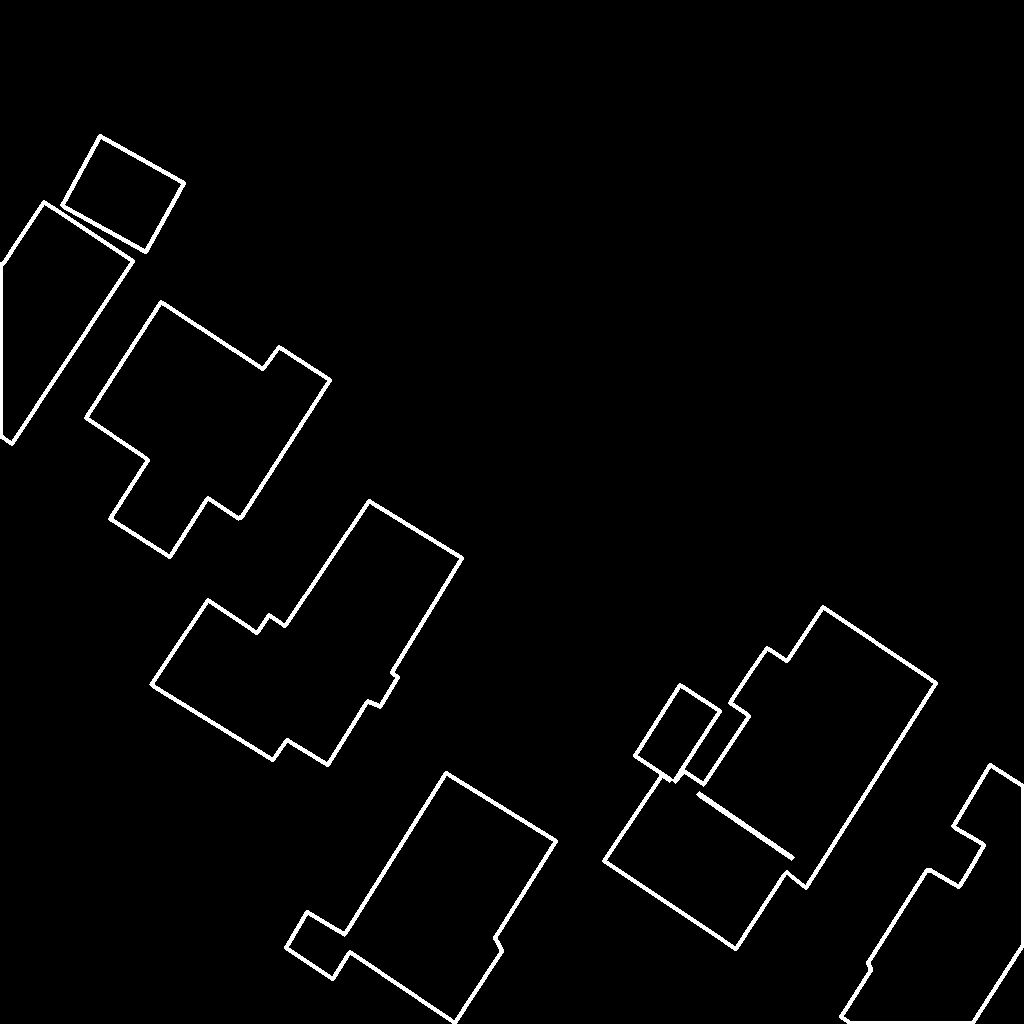building: (151, 501, 463, 766), (286, 773, 557, 1024), (698, 607, 937, 889), (86, 302, 331, 558), (841, 765, 1024, 1024), (604, 771, 795, 950), (0, 202, 134, 445), (62, 136, 185, 253), (635, 685, 721, 783)
